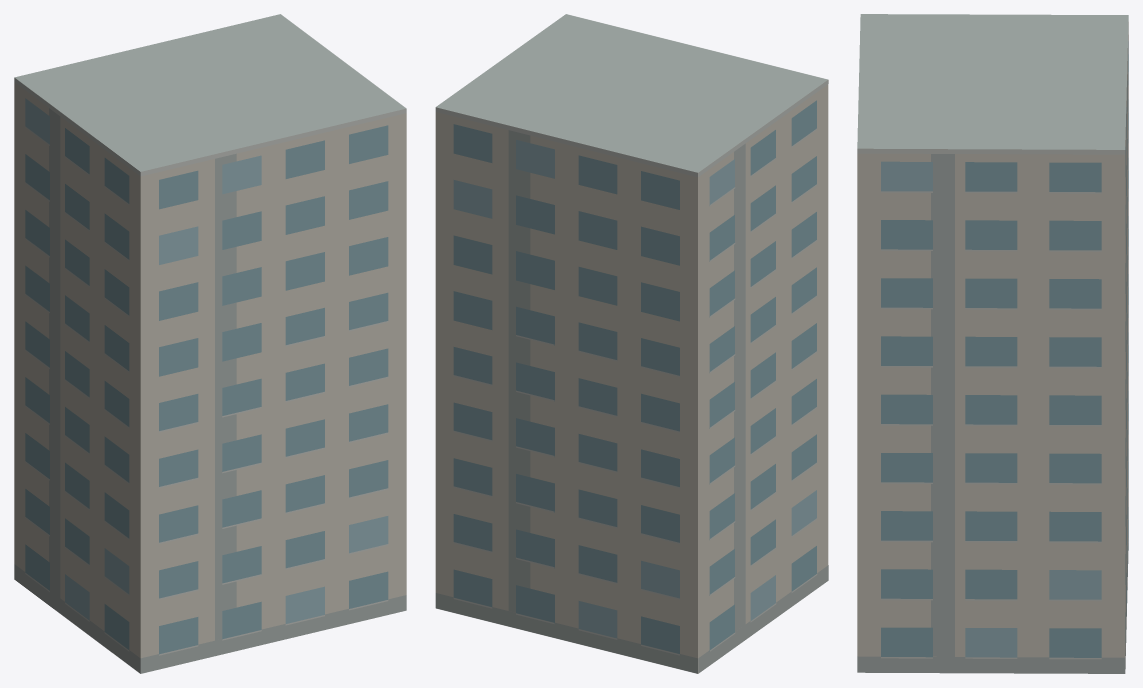
File: survey-upis-32892953.glb
3 views of the same model, side by side, from view 1: azimuth 30°, elevation 25°; view 2: azimuth 150°, elevation 25°; view 3: azimuth 270°, elevation 25° (orthographic). The views are drawn at different scales.
Parts seen in each view (by area): view 1: survey-upis-32892953.tmp; view 2: survey-upis-32892953.tmp; view 3: survey-upis-32892953.tmp.
Part boxes in pixels (x1,y1,x2,y2): survey-upis-32892953.tmp: [14, 14, 406, 673]; survey-upis-32892953.tmp: [435, 14, 828, 673]; survey-upis-32892953.tmp: [857, 14, 1128, 673].
Size of the model in its own units: 14.84 by 26.65 by 12.52.
